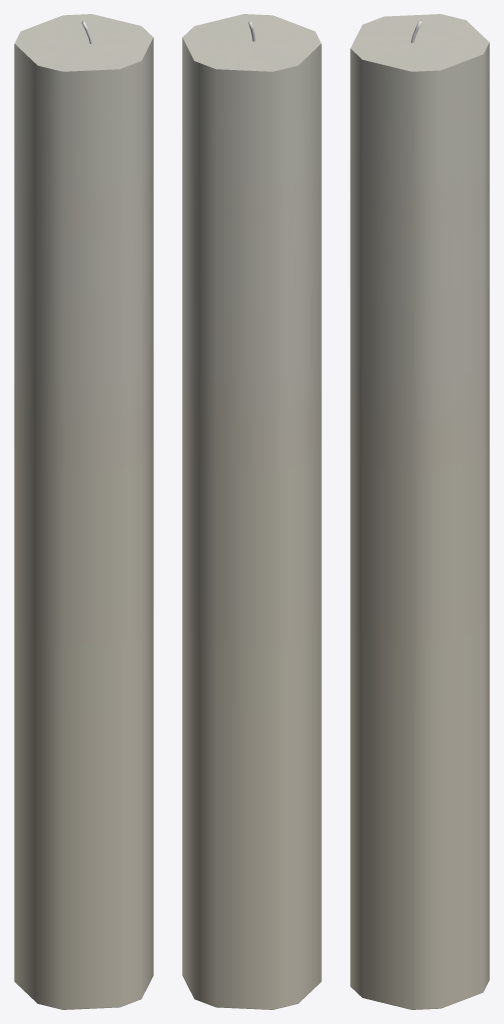
The model's file is Iglesia-CirioPascual.fbx.
The picture shows the model from 3 angles, left to right: view 1: azimuth 90°, elevation 25°; view 2: azimuth 150°, elevation 25°; view 3: azimuth 270°, elevation 25°; orthographic projection.
Parts seen in each view (by area): view 1: Cylinder; view 2: Cylinder; view 3: Cylinder.
Part boxes in pixels (<box>): Cylinder: <box>14,14,153,1009</box>; Cylinder: <box>182,14,321,1009</box>; Cylinder: <box>350,14,489,1009</box>.
Size of the model in its own units: 0.1501 by 1.16 by 0.1526.
